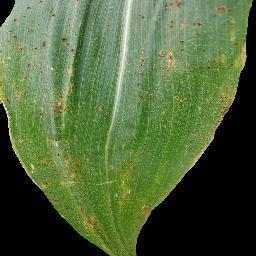Corn_Common_Rust: (2, 115, 206, 256), (122, 0, 256, 148), (0, 0, 86, 109), (92, 89, 112, 123)
